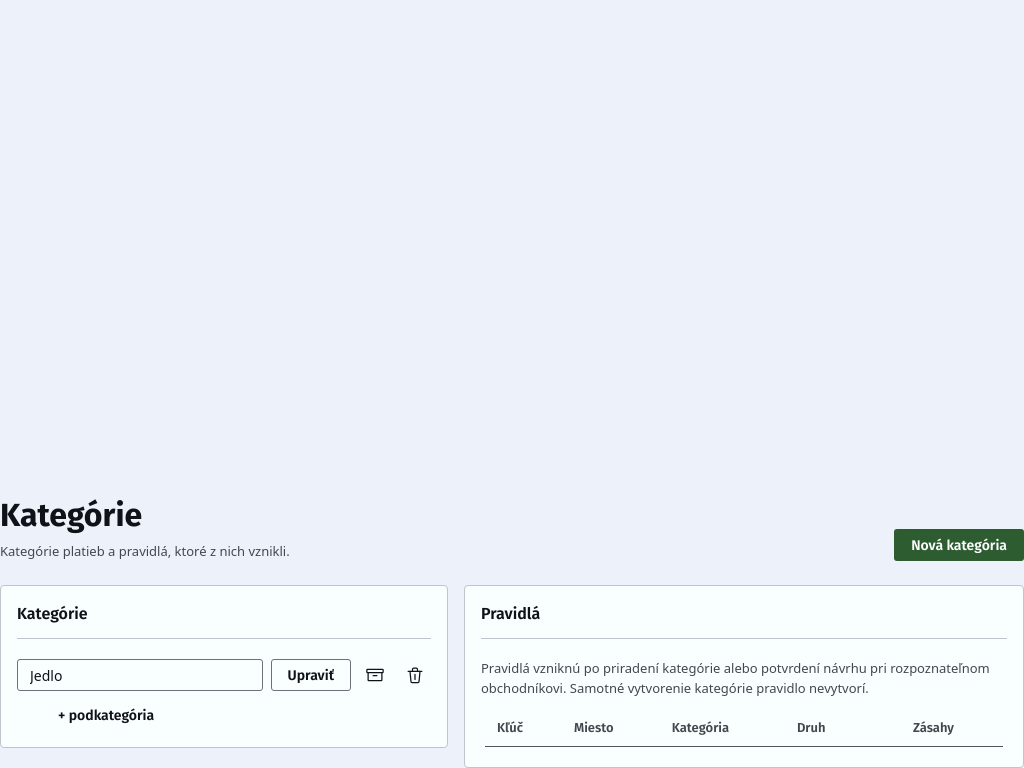
Test case: Categories delete control (point 4) › cancelling the delete confirmation makes no write
This screenshot has width=1024, height=768.
(page scrolled)
What coordinates should you click on to do the following:
click the button named "Zmazať kategóriu Jedlo"
I would click on:
 (415, 675)
Its box is [399, 659, 431, 691].
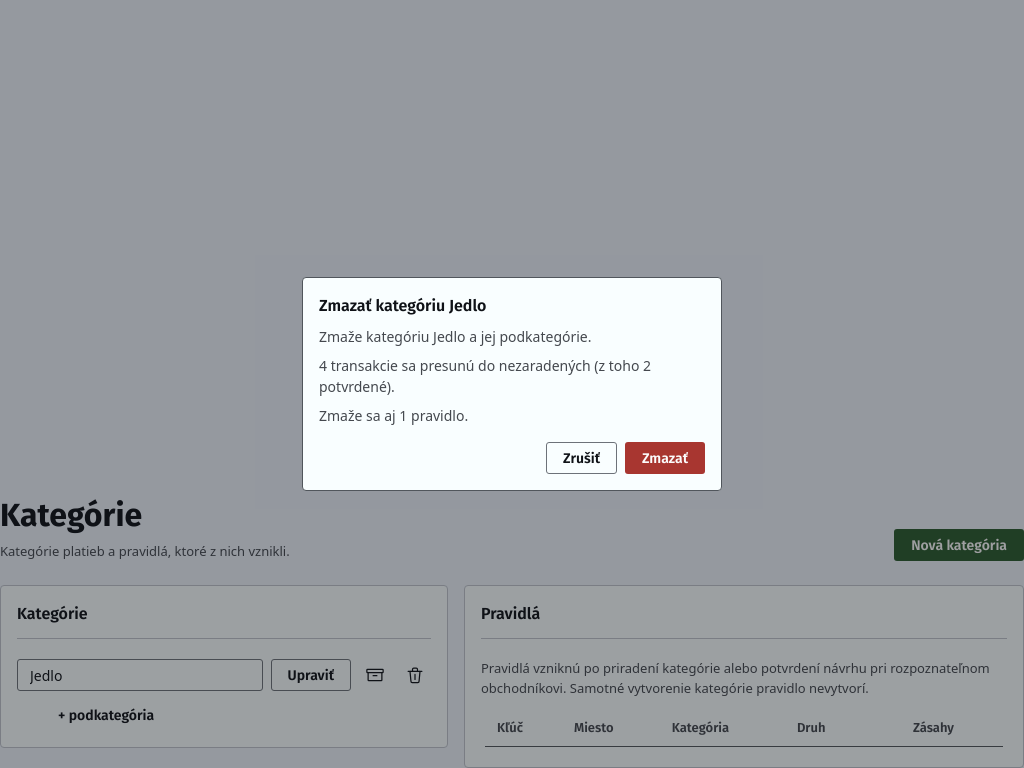
expect the text "4 transakcie sa presunú do nezaradených" is shown: met, box [319, 356, 651, 396]
What coordinates should you click on to do the following:
click the button "Zrušiť"
I would click on:
 (581, 458)
Its box is [546, 442, 617, 474].
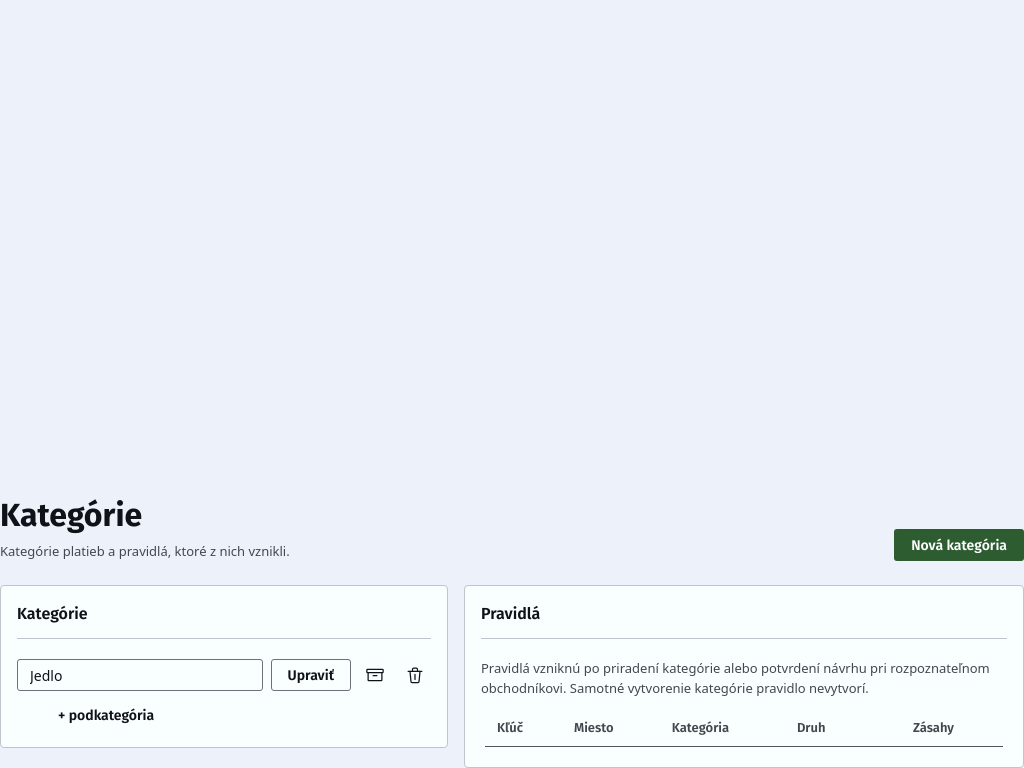
expect the dialog is gone: met
